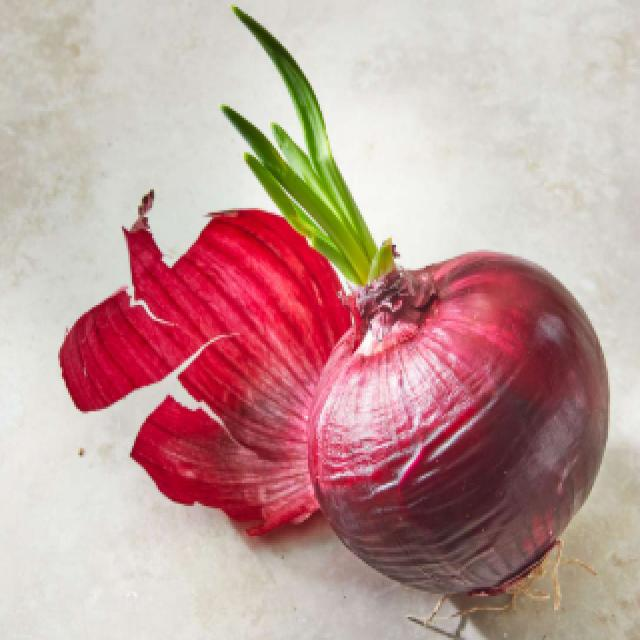sprouting: (214, 1, 601, 540)
